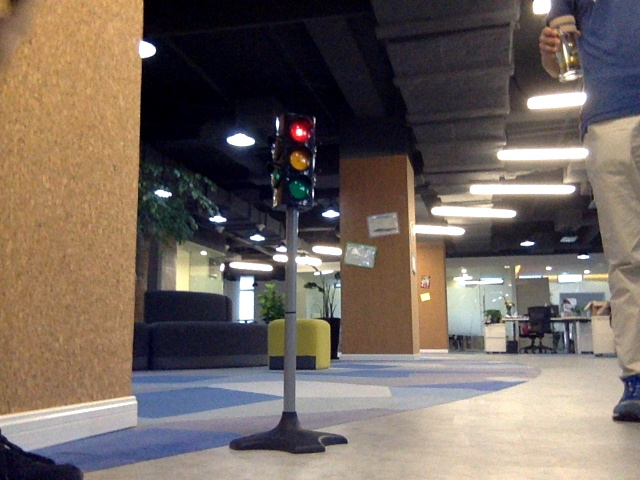red: (278, 115, 313, 200)
